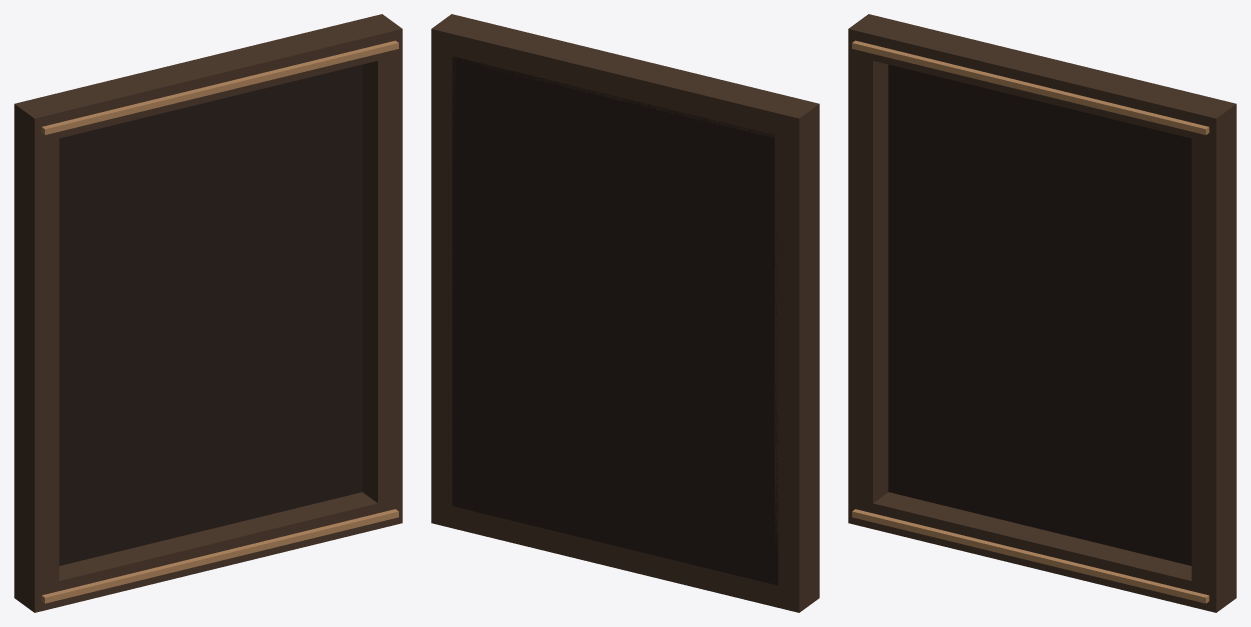
File: mirror.glb
The picture shows the model from 3 angles, left to right: view 1: azimuth 30°, elevation 25°; view 2: azimuth 150°, elevation 25°; view 3: azimuth 330°, elevation 25°; orthographic projection.
Parts seen in each view (by area): view 1: mirror; view 2: mirror; view 3: mirror.
Boxes of the visible parts, x1,y1,x2,y2 form: mirror: (14, 14, 402, 612); mirror: (431, 14, 819, 612); mirror: (848, 14, 1236, 612).
Bounding box in the file's own units: 0.522 × 0.67 × 0.058.
